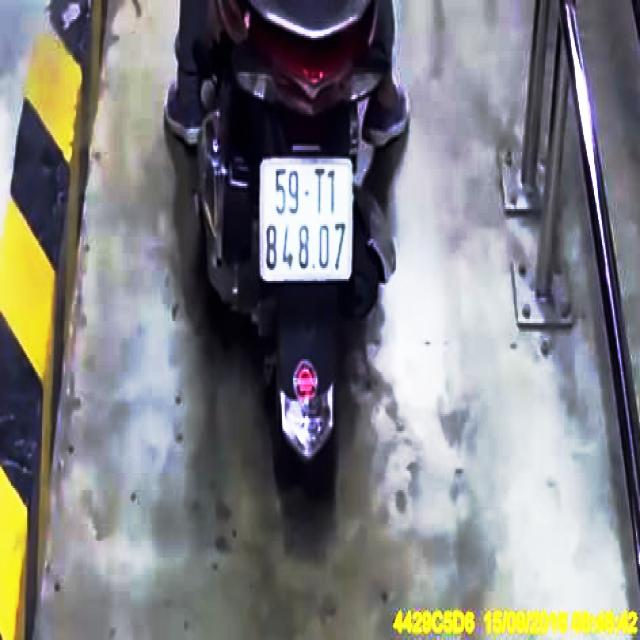license_plate: (262, 161, 355, 281)
